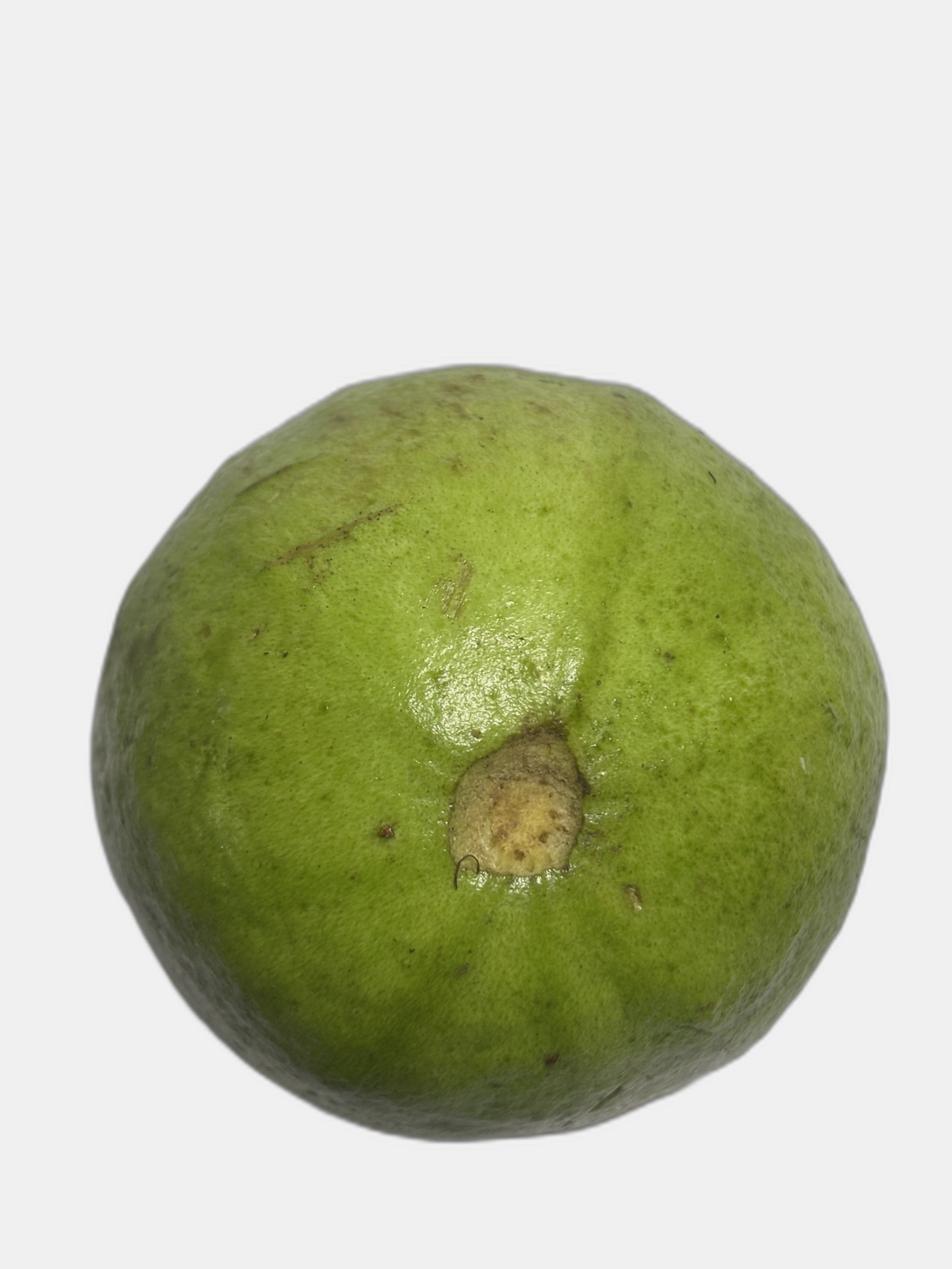guava: (65, 124, 798, 1207)
